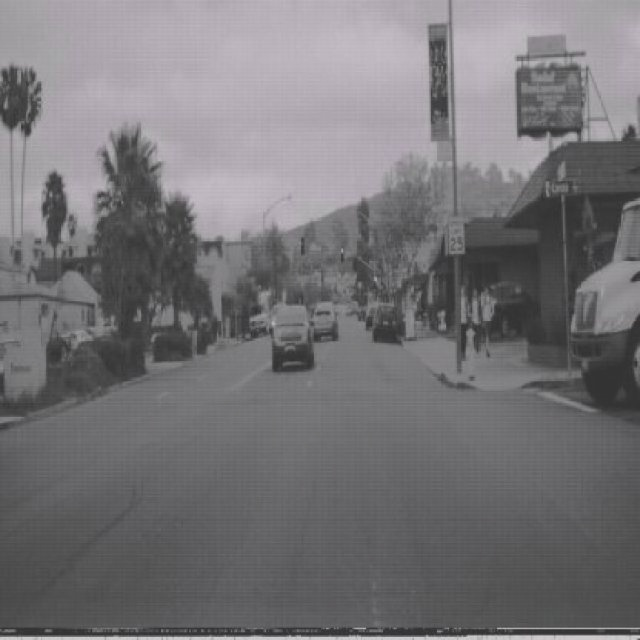speedLimit25: (448, 212, 465, 255)
